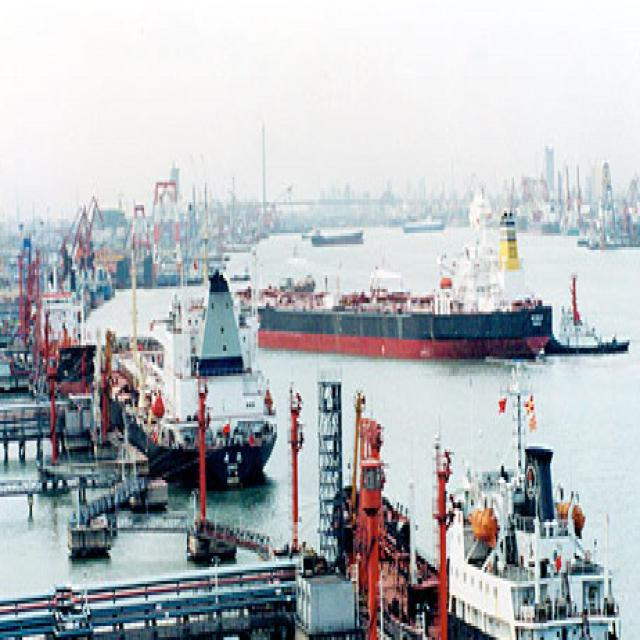cargoship: (252, 218, 544, 382)
houseboat: (544, 283, 627, 376)
passenger ship: (435, 407, 605, 640)
